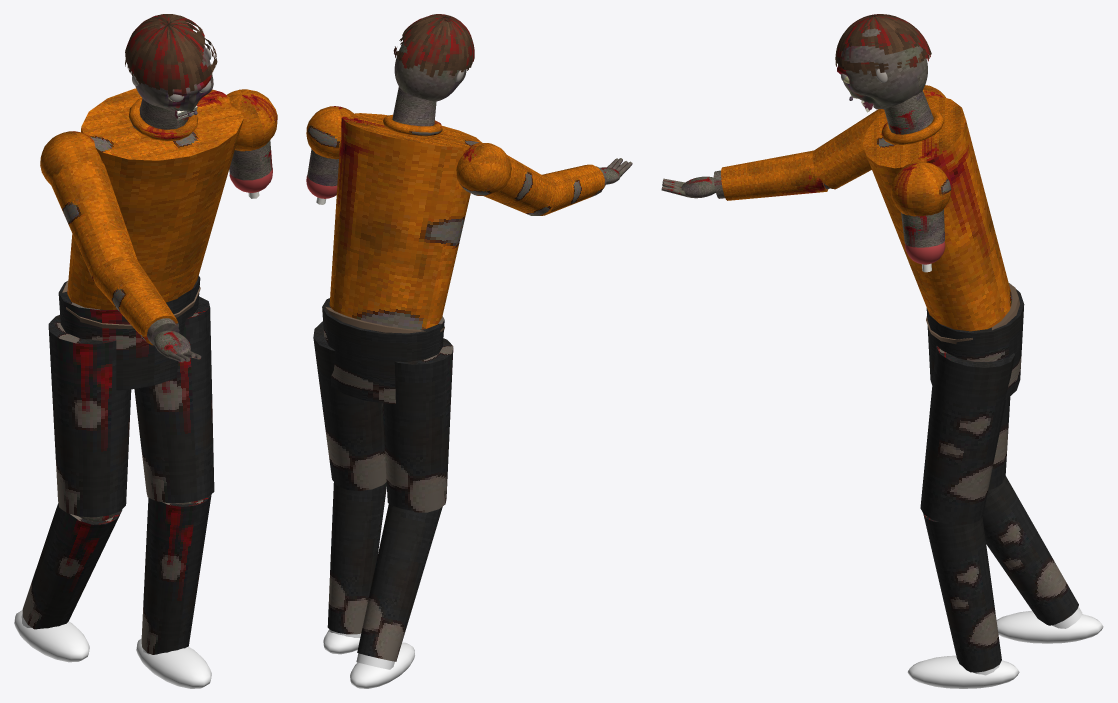
Rendered from Zombie_121.glb.
3 renders of one model, left to right at view 1: azimuth 30°, elevation 25°; view 2: azimuth 150°, elevation 25°; view 3: azimuth 270°, elevation 25°, orthographic. The views are drawn at different scales.
Parts seen in each view (by area): view 1: Zombie_121, object 37, object 4, object 10, object 5, object 3; view 2: Zombie_121, object 37, object 4, object 10; view 3: Zombie_121, object 10, object 4, object 37, object 36.
Boxes of the visible parts, left/top/right/bottom form: Zombie_121: left=14, top=88, right=277, bottom=688; object 37: left=125, top=14, right=217, bottom=94; object 4: left=93, top=256, right=178, bottom=345; object 10: left=132, top=25, right=213, bottom=112; object 5: left=154, top=330, right=190, bottom=358; object 3: left=147, top=318, right=179, bottom=345; Zombie_121: left=306, top=87, right=556, bottom=688; object 37: left=393, top=14, right=474, bottom=74; object 4: left=540, top=164, right=604, bottom=215; object 10: left=394, top=42, right=466, bottom=101; Zombie_121: left=812, top=85, right=1103, bottom=688; object 10: left=837, top=28, right=927, bottom=109; object 4: left=721, top=150, right=828, bottom=200; object 37: left=835, top=14, right=931, bottom=72; object 36: left=838, top=25, right=929, bottom=76.
Size of the model in its own units: 0.5784 by 1.65 by 1.02.
18 materials, 6 textured.
